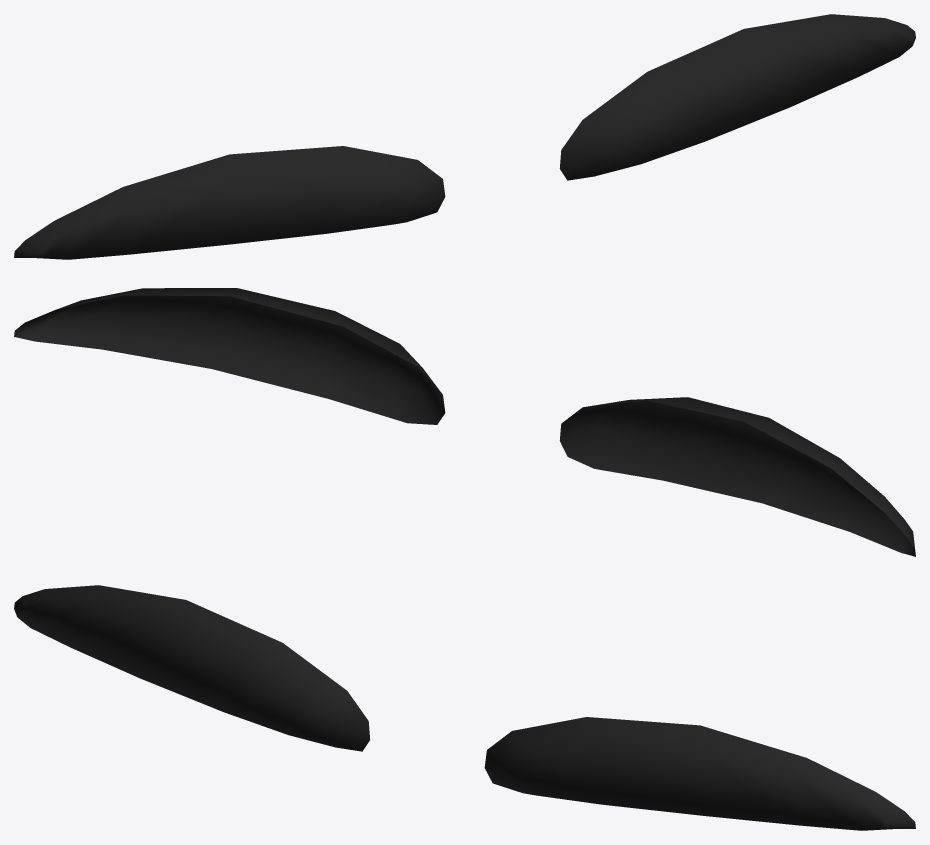
Rendered from eyebrow_1.fbx.
The picture shows the model from 3 angles, top to bottom: view 1: azimuth 30°, elevation 25°; view 2: azimuth 150°, elevation 25°; view 3: azimuth 330°, elevation 25°; orthographic projection.
Visible parts, largest first — view 1: eyebrow_1; view 2: eyebrow_1; view 3: eyebrow_1.
Part boxes in pixels (x1=…): eyebrow_1: x1=14, y1=14, x2=915, y2=259; eyebrow_1: x1=14, y1=288, x2=915, y2=556; eyebrow_1: x1=14, y1=585, x2=915, y2=830.
Bounding box in the file's own units: 0.9612 × 0.0992 × 0.0979.
